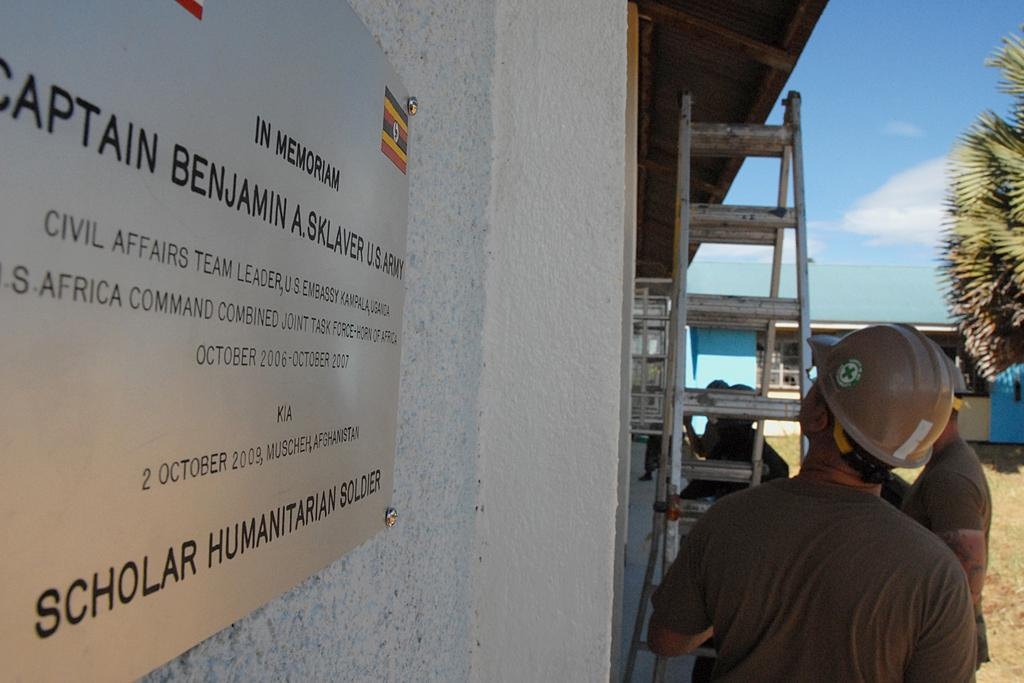helmet: (798, 321, 955, 487)
